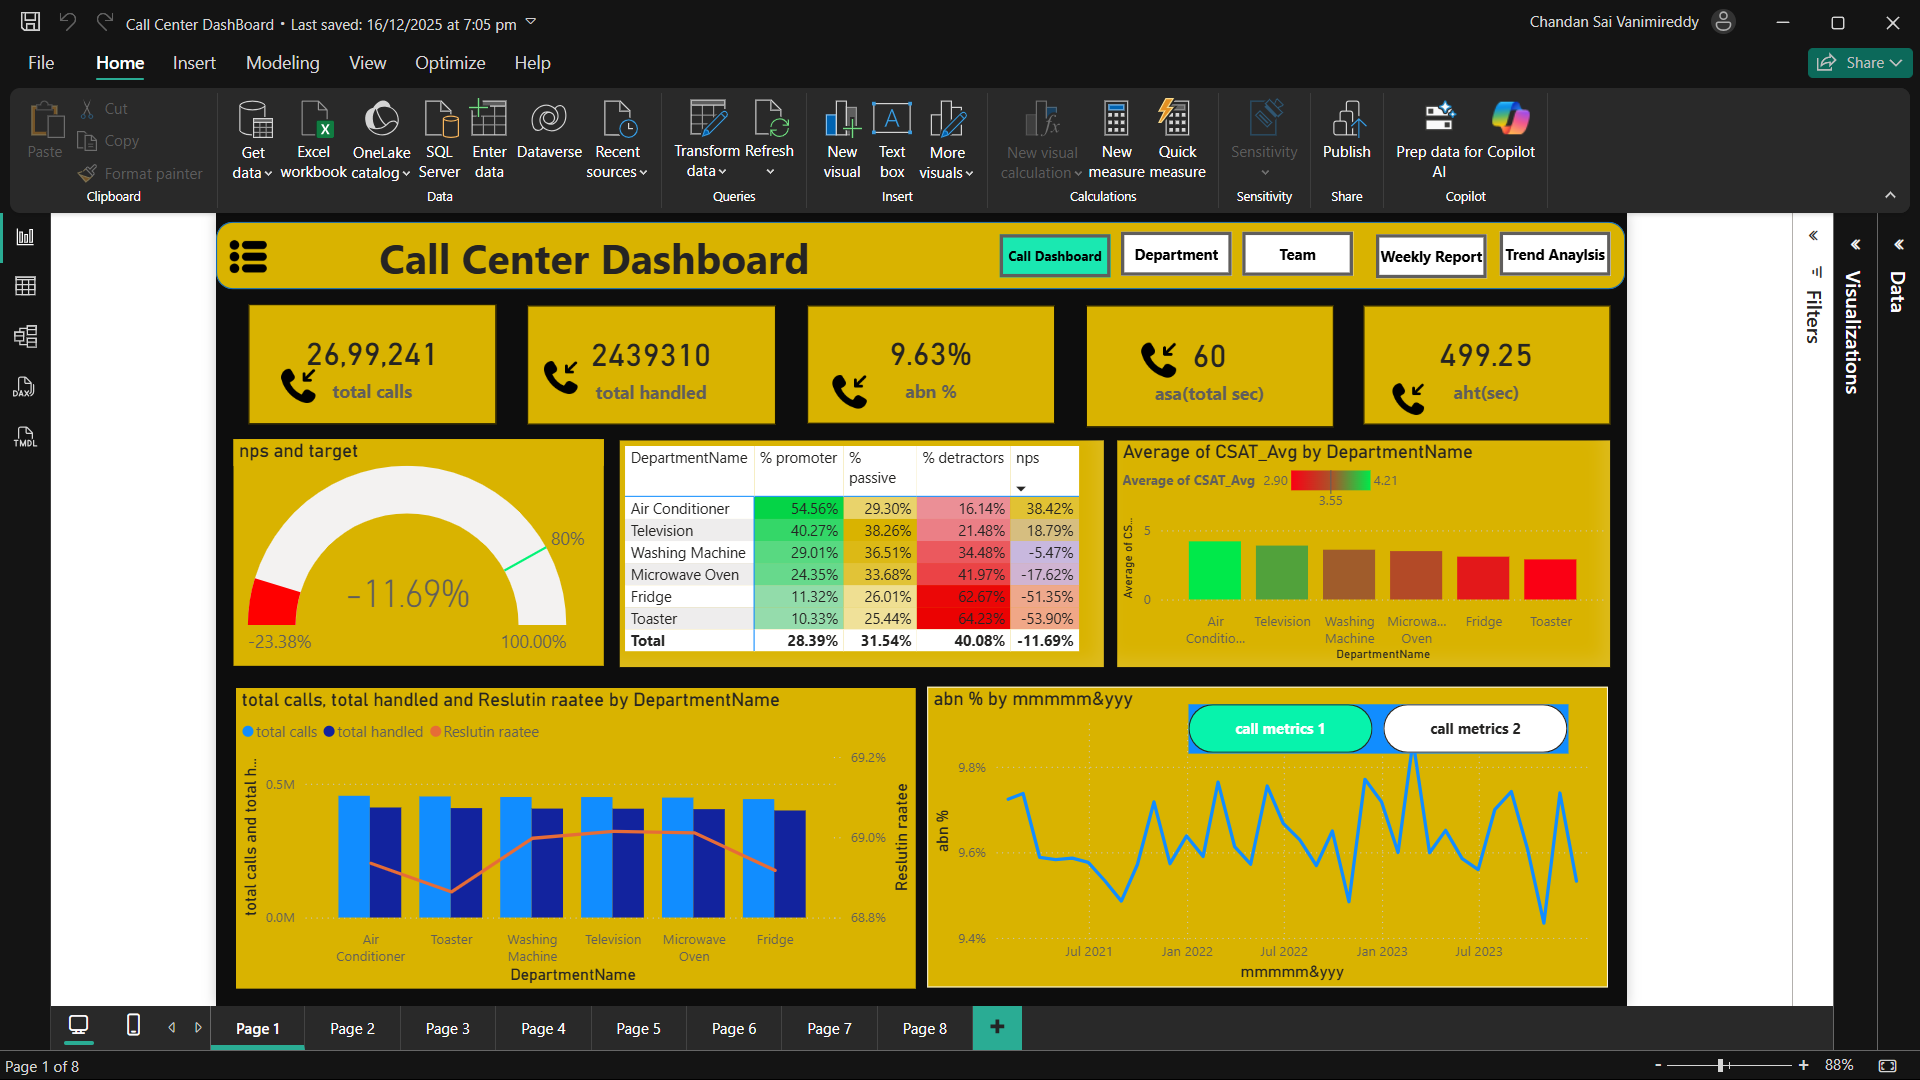

The page's visual inventory and layout, read from the dashboard file:
{"tool":"powerbi","page":{"name":"Page 1","canvas":[1280,720],"ordinal":0},"visuals":[{"type":"group","id":"g1","title":"Group 1","box":[29.9,83.3,225.2,108.9],"z":0},{"type":"group","id":"g2","title":"Group 3","box":[29.9,83.3,225.2,108.9],"z":0,"group":"g1"},{"type":"card","fields":{"Values":["Mtable.total calls"]},"box":[29.9,83.3,225.2,108.9],"z":0,"group":"g2"},{"type":"group","id":"g3","title":"Group 5","box":[536.2,83.8,225,107],"z":0,"group":"g6"},{"type":"card","fields":{"Values":["Mtable.abn %"]},"box":[536.2,83.8,225,107],"z":0,"group":"g3"},{"type":"card","fields":{"Values":["Mtable.asa(total sec)"]},"box":[789.6,83.8,225,110.6],"z":0,"group":"g8"},{"type":"image","box":[262.1,129,101.5,40.2],"z":0,"group":"g7"},{"type":"group","id":"g4","title":"Group 4","box":[550.3,135.1,76.8,38.4],"z":0,"group":"g5"},{"type":"image","box":[550.3,135.1,76.8,38.4],"z":0,"group":"g4"},{"type":"lineClusteredColumnComboChart","fields":{"Category":["Department.DepartmentName"],"Y":["Mtable.total calls","Mtable.total handled"],"Y2":["Mtable.Reslutin raatee"]},"box":[17.9,430.7,617,273],"z":0,"group":"g9"},{"type":"card","fields":{"Values":["Mtable.aht(sec)"]},"box":[1041.2,83.8,223.8,108],"z":1000},{"type":"image","box":[816.6,111.8,76.8,42.4],"z":1000,"group":"g8"},{"type":"image","box":[36.4,136.8,76.7,41.6],"z":1000,"group":"g2"},{"type":"image","box":[536.3,141.6,76.8,41],"z":1000,"group":"g3"},{"type":"lineChart","fields":{"Category":["Calendartable.mmmmm&yyy"],"Y":["Mtable.abn %"]},"box":[645,430,617.5,273.1],"z":1000,"group":"g9"},{"type":"image","box":[1043.4,149.9,76.8,38.4],"z":3000},{"type":"group","id":"g5","title":"Group 1","box":[550.3,135.1,76.8,38.4],"z":4000},{"type":"card","fields":{"Values":["Mtable.total handled"]},"box":[282.9,83.8,225.5,108],"z":5000},{"type":"group","id":"g6","title":"Group 1","box":[536.2,83.8,225.5,108],"z":6000},{"type":"group","id":"g7","title":"Group 1","box":[262.1,129,101.5,41.2],"z":7000},{"type":"group","id":"g8","title":"Group 1","box":[789.6,83.8,223.8,108],"z":8000},{"type":"gauge","fields":{"Y":["Mtable.nps"],"TargetValue":["Mtable.target"]},"box":[15.7,205.3,336.4,205.3],"z":9000},{"type":"pivotTable","fields":{"Rows":["Department.DepartmentName"],"Values":["Mtable.% promoter","Mtable.% passive","Mtable.% detractors","Mtable.nps"]},"box":[366.3,206.7,439,205.3],"z":10000},{"type":"group","id":"g9","title":"call  metrics 1","box":[17.9,430,1244.1,272.8],"z":11000},{"type":"bookmarkNavigator","box":[870.3,466,345,47.2],"z":12000},{"type":"columnChart","fields":{"Category":["Department.DepartmentName"],"Y":["Avg(Calls.CSAT_Avg)"]},"box":[818.2,206.7,447.6,205.3],"z":13000},{"type":"shape","box":[0,7.5,1278.8,61.2],"z":14000},{"type":"textbox","box":[112.6,10.4,462.3,79.7],"z":15000},{"type":"image","box":[6.9,20.8,45,38.1],"z":17000},{"type":"bookmarkNavigator","box":[882.5,445.5,345,44.8],"z":19000},{"type":"actionButton","box":[711.7,19,100.4,39],"z":20000},{"type":"actionButton","box":[931.6,17.5,100.5,39.9],"z":21000},{"type":"actionButton","box":[820.8,17.3,100.4,39.8],"z":22000},{"type":"actionButton","box":[1052.8,19,100.4,39.8],"z":23000},{"type":"actionButton","box":[1165.4,17.3,100.4,39.8],"z":24000}]}

Visuals, with their boxes on the page's 1280x720 design canvas (x1, y1, x2, y2). These are canvas units, not pixel positions in the 1920x1080 screenshot, which may show the page scaled, cropped or inside an application window:
"Group 1" group: rect(30, 83, 255, 192)
"Group 3" group: rect(30, 83, 255, 192)
card - Mtable.total calls: rect(30, 83, 255, 192)
"Group 5" group: rect(536, 84, 761, 191)
card - Mtable.abn %: rect(536, 84, 761, 191)
card - Mtable.asa(total sec): rect(790, 84, 1015, 194)
image: rect(262, 129, 364, 169)
"Group 4" group: rect(550, 135, 627, 174)
image: rect(550, 135, 627, 174)
lineClusteredColumnComboChart - Department.DepartmentName x Mtable.total calls: rect(18, 431, 635, 704)
card - Mtable.aht(sec): rect(1041, 84, 1265, 192)
image: rect(817, 112, 893, 154)
image: rect(36, 137, 113, 178)
image: rect(536, 142, 613, 183)
lineChart - Calendartable.mmmmm&yyy x Mtable.abn %: rect(645, 430, 1262, 703)
image: rect(1043, 150, 1120, 188)
"Group 1" group: rect(550, 135, 627, 174)
card - Mtable.total handled: rect(283, 84, 508, 192)
"Group 1" group: rect(536, 84, 762, 192)
"Group 1" group: rect(262, 129, 364, 170)
"Group 1" group: rect(790, 84, 1013, 192)
gauge - Mtable.nps x Mtable.target: rect(16, 205, 352, 411)
pivotTable - Department.DepartmentName x Mtable.% promoter: rect(366, 207, 805, 412)
"call  metrics 1" group: rect(18, 430, 1262, 703)
bookmarkNavigator: rect(870, 466, 1215, 513)
columnChart - Department.DepartmentName x Avg(Calls.CSAT_Avg): rect(818, 207, 1266, 412)
shape: rect(0, 8, 1279, 69)
textbox: rect(113, 10, 575, 90)
image: rect(7, 21, 52, 59)
bookmarkNavigator: rect(882, 446, 1228, 490)
actionButton: rect(712, 19, 812, 58)
actionButton: rect(932, 18, 1032, 57)
actionButton: rect(821, 17, 921, 57)
actionButton: rect(1053, 19, 1153, 59)
actionButton: rect(1165, 17, 1266, 57)
